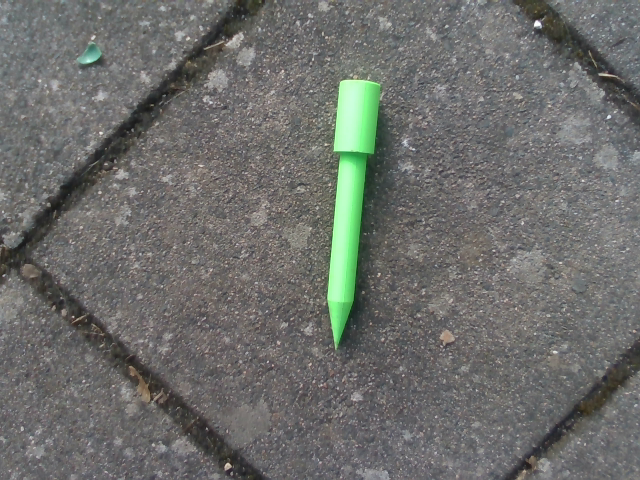Probe: (318, 74, 386, 358)
